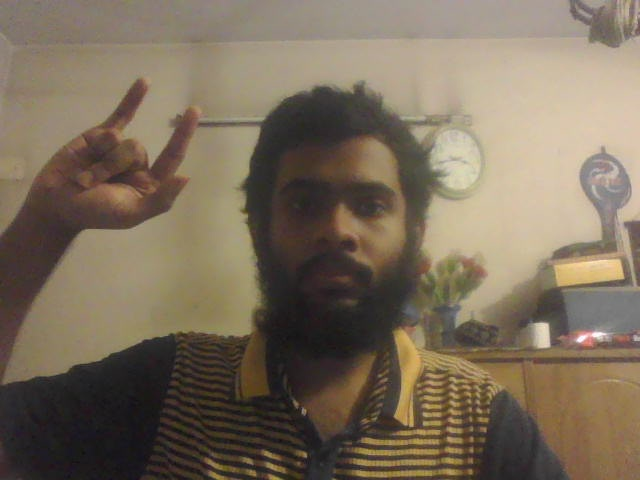I Love You: (33, 78, 201, 228)
